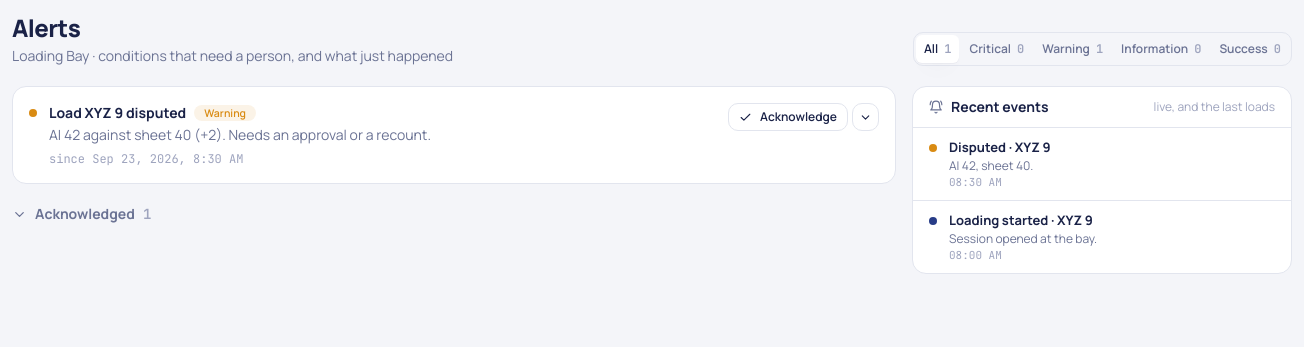
Test case: alerts › keeps an acknowledged alert out of the active list
Expected: the text "Load XYZ 9 disputed" is shown, [49,103,186,123]
Expected: the text "Door 2 has no signal" is not shown
Step 1. Click the button "Acknowledged 1" → (82, 214), box [12,204,151,224]
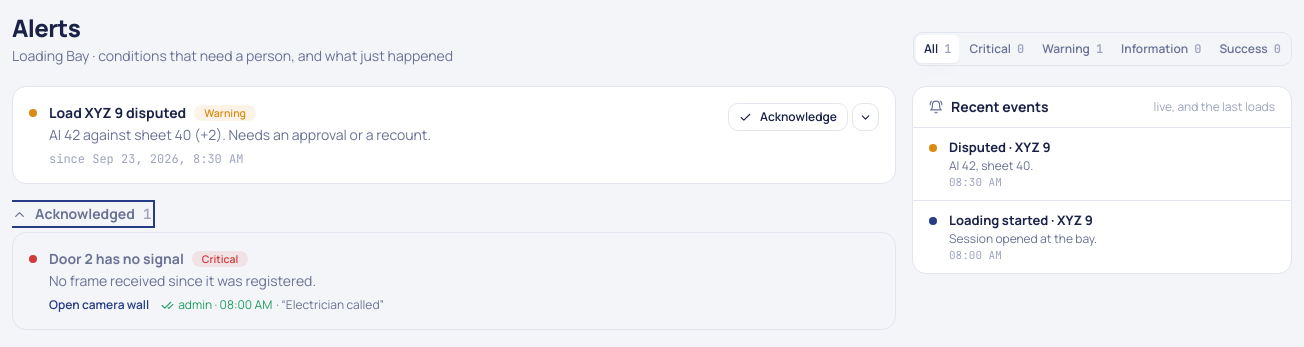
Expected: the text "· “Electrician called”" is shown, [276,297,384,313]
